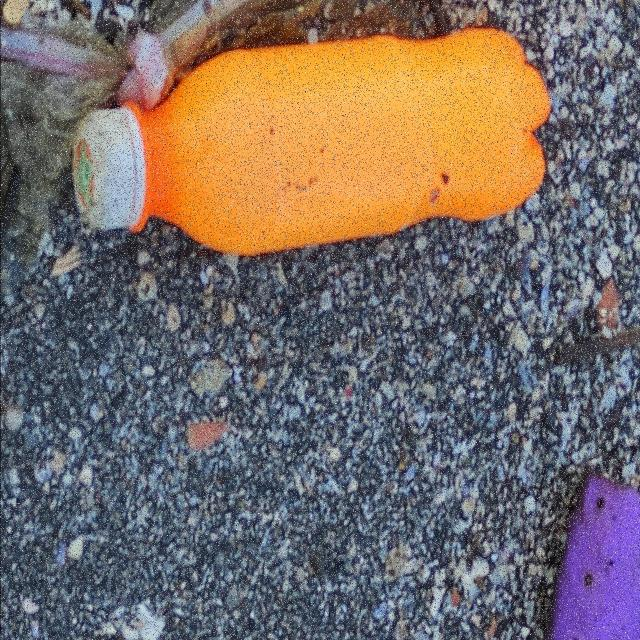plastic_waste: (69, 25, 557, 260)
